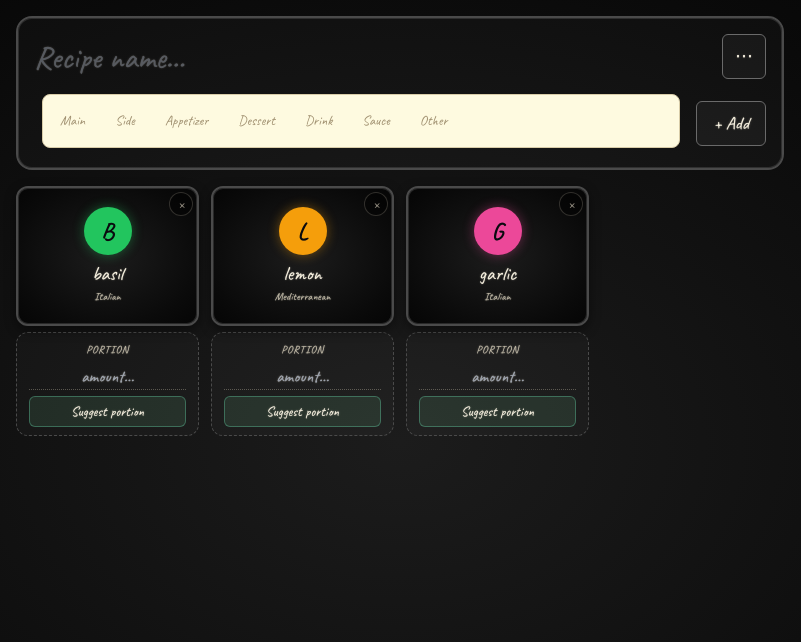
Test: MakeRecipeView › removing an ingredient also clears its portion
The image size is (801, 642).
Click the button with test id "make-recipe-suggest-basil" at [108, 412], box left=29, top=396, right=186, bottom=427
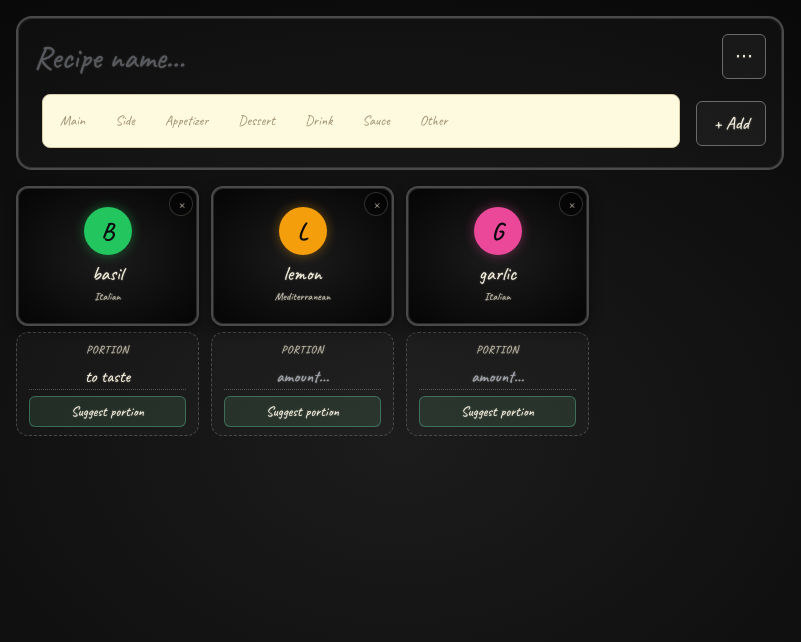
Click the button with test id "make-recipe-remove-basil" at [181, 204], box left=169, top=192, right=193, bottom=216
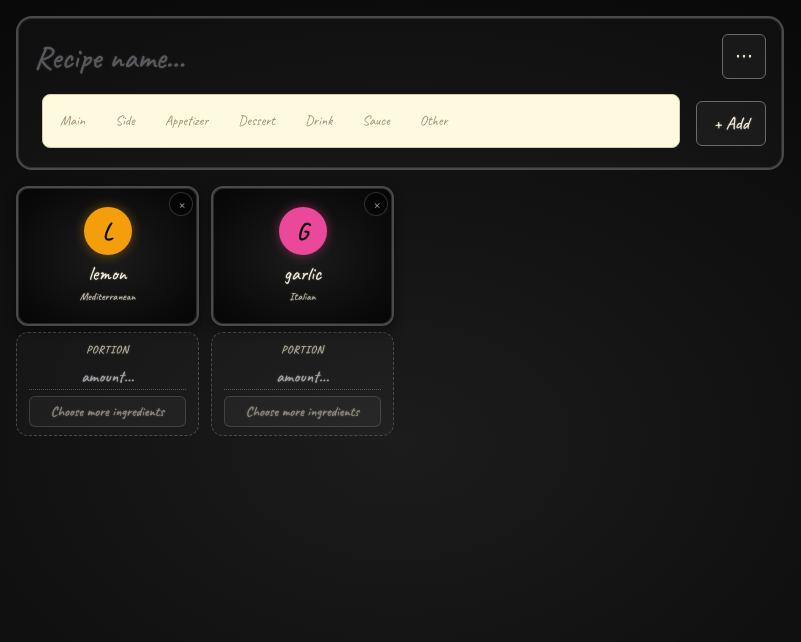
Now the element with test id "make-recipe-portion-basil" is gone
